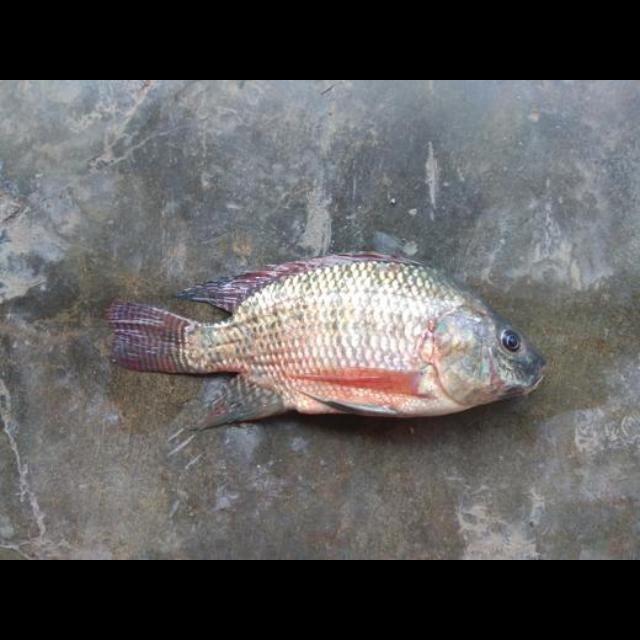Tilapia: (105, 248, 545, 434)
